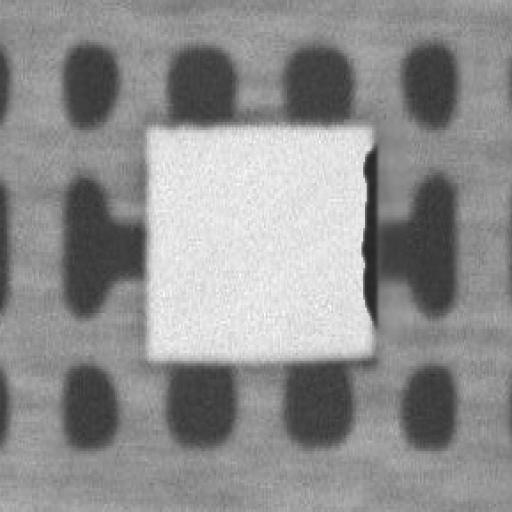DIE_BROKEN: (356, 132, 379, 332)
